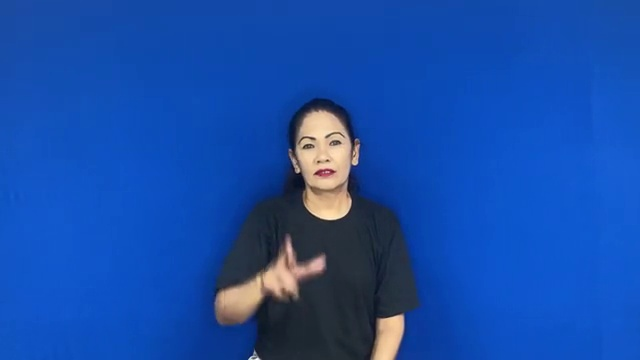chicken: (249, 226, 332, 311)
